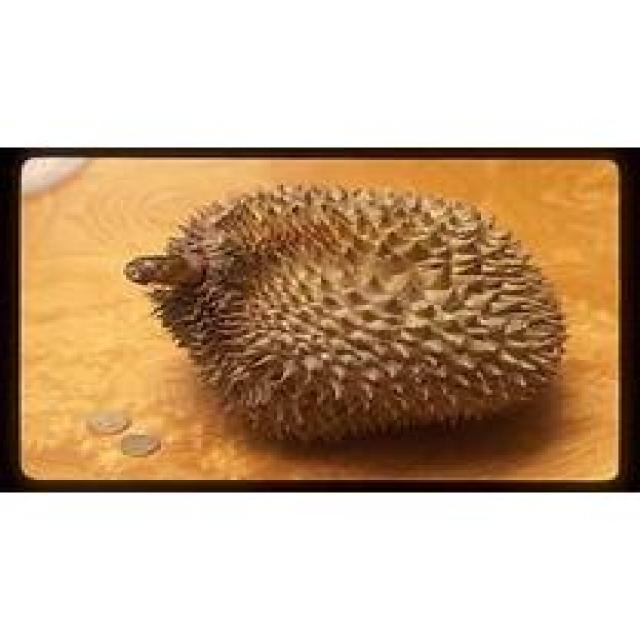fruit: (234, 175, 569, 457)
